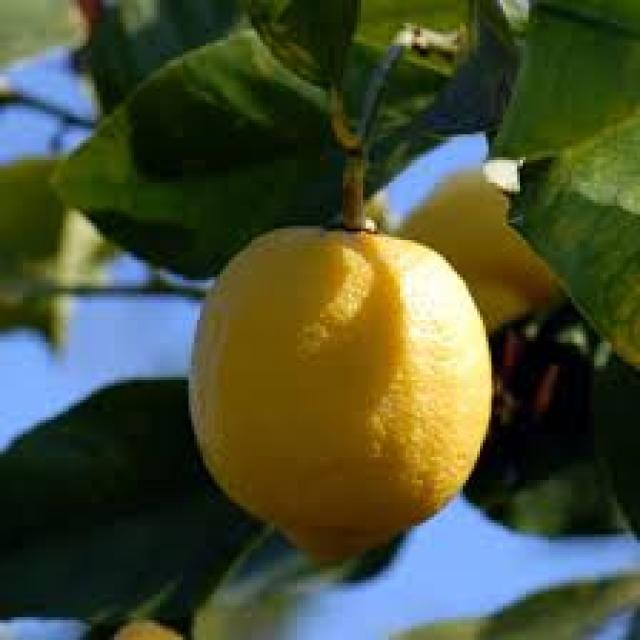Lemon: (186, 220, 494, 566)
